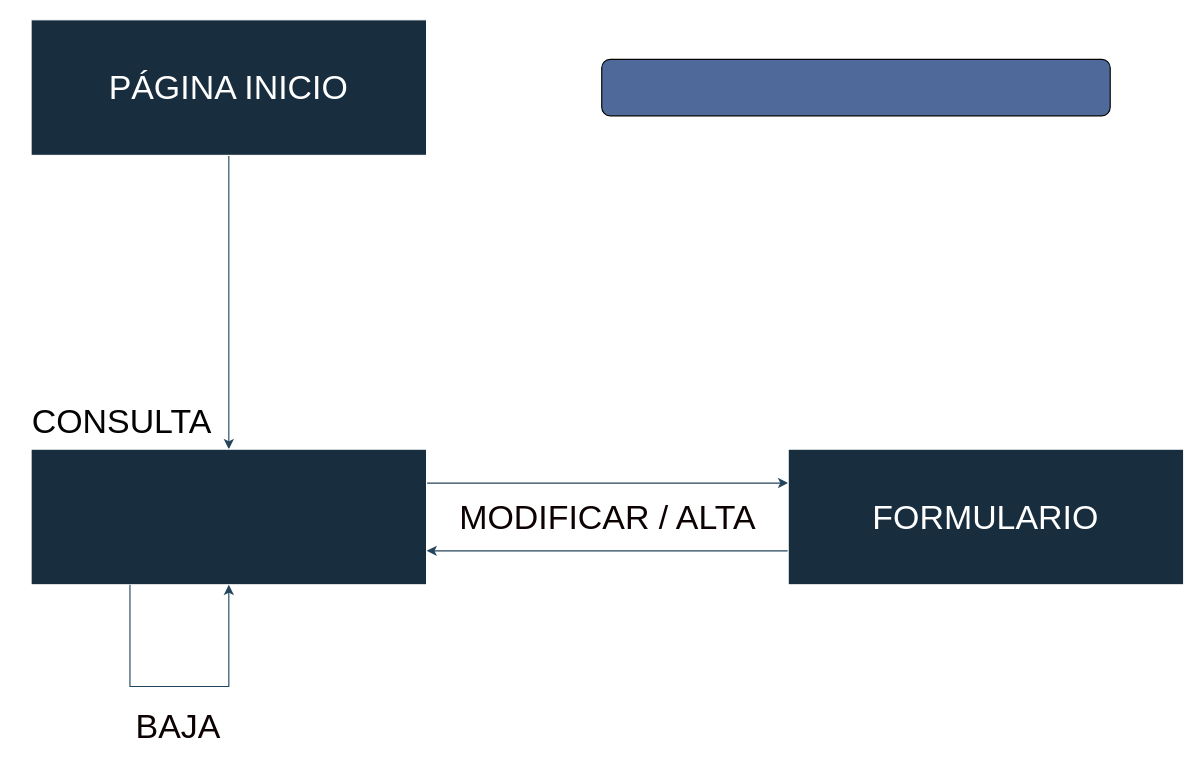
Image size: 1203x774. Some labels were removed from this diagram. The shapes that lost their labels are listed below. From the top down, each one's box as (x1, y1, x2, y2) in pixels, then its label:
(601, 58, 1110, 116): Mapa de navegación PlayGame
(30, 448, 427, 585): PÁGINA CRUD
